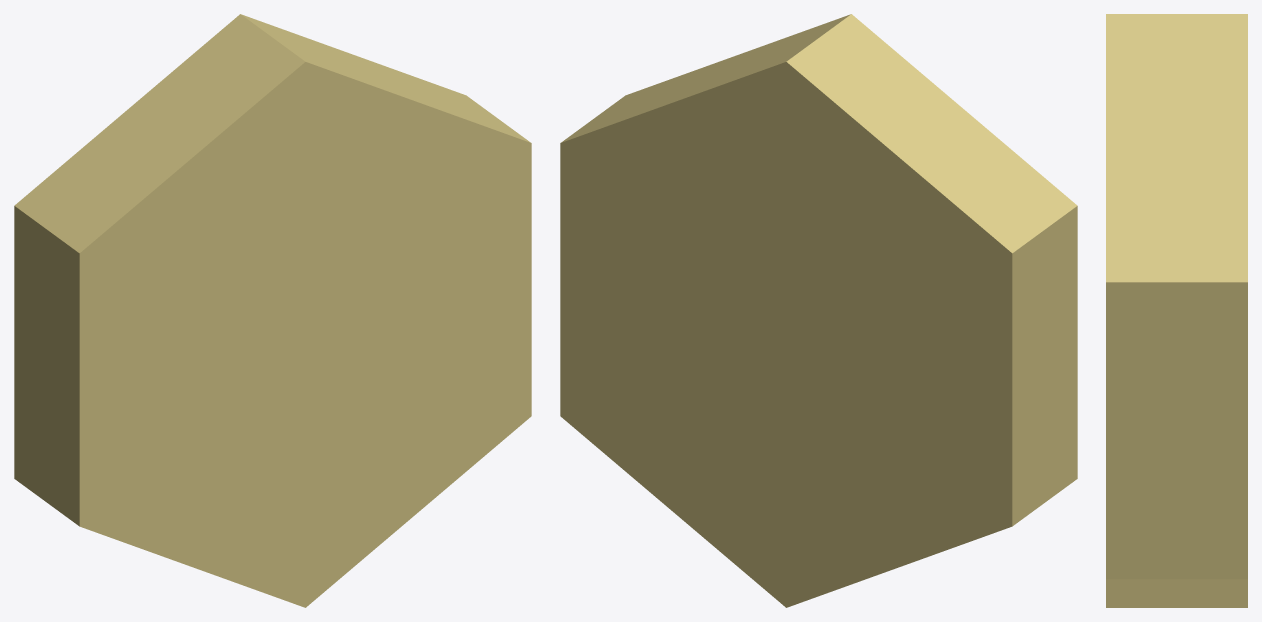
The model's file is hex_poly_demo.glb.
3 renders of one model, left to right at view 1: azimuth 30°, elevation 25°; view 2: azimuth 150°, elevation 25°; view 3: azimuth 270°, elevation 25°, orthographic. The views are drawn at different scales.
Visible parts, largest first — view 1: extruded_hexagon; view 2: extruded_hexagon; view 3: extruded_hexagon.
Part boxes in pixels (x1,y1,x2,y2): extruded_hexagon: [14, 14, 531, 607]; extruded_hexagon: [560, 14, 1077, 607]; extruded_hexagon: [1106, 14, 1247, 607].
Bounding box in the file's own units: 16 × 18.48 × 4.
